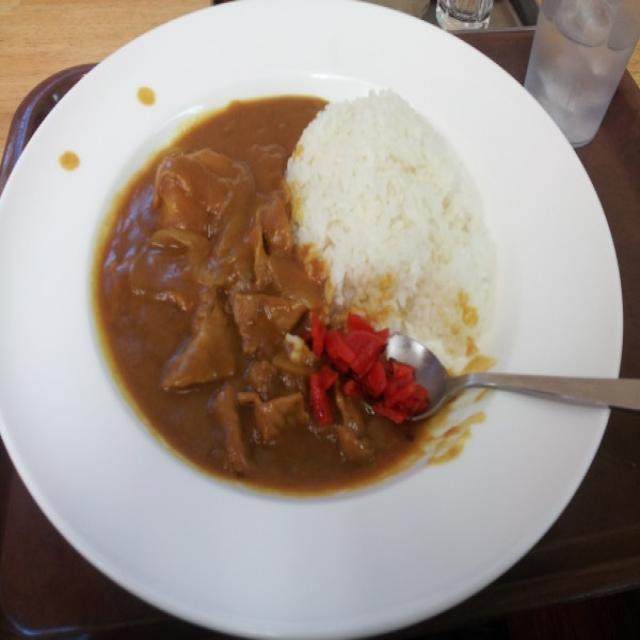Beef Curry: (106, 86, 332, 474)
Rice: (298, 84, 494, 328)
